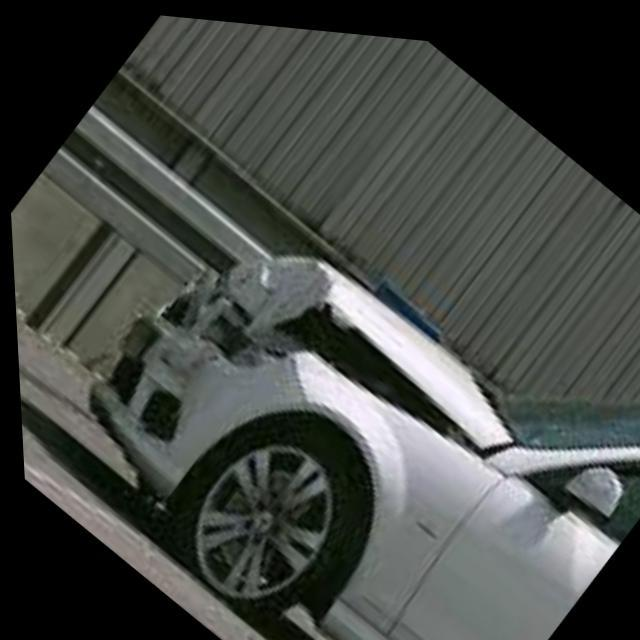dislocated part: (84, 250, 498, 448)
